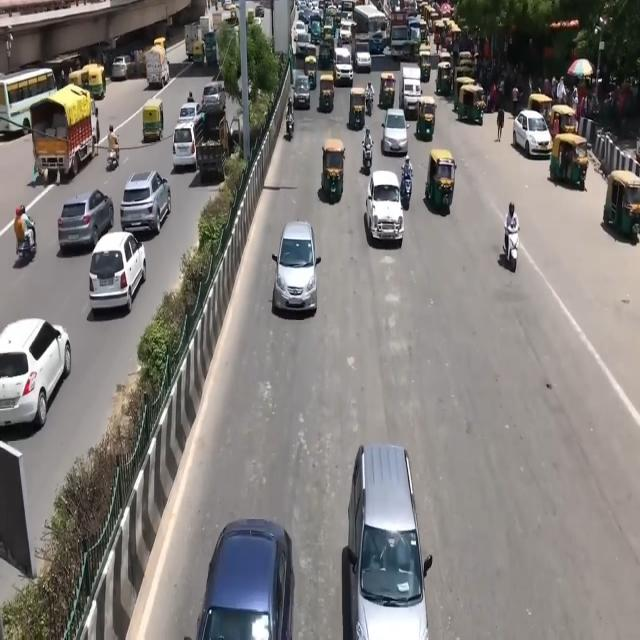auto: (606, 155, 640, 272), (551, 122, 592, 214), (426, 145, 457, 219), (552, 96, 589, 156), (320, 130, 346, 210), (134, 102, 173, 151), (342, 81, 373, 140), (374, 62, 400, 115), (415, 92, 439, 143), (528, 84, 552, 132), (460, 82, 484, 128), (317, 68, 338, 120), (85, 64, 107, 100), (69, 64, 88, 101)
bike-auto: (503, 199, 522, 279), (102, 121, 124, 174), (399, 154, 416, 210), (358, 123, 376, 174), (284, 93, 298, 140), (363, 74, 376, 118)
